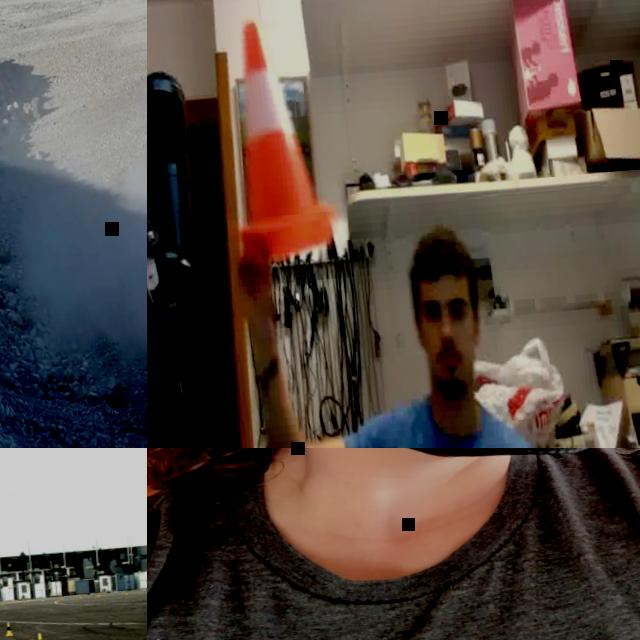NO-Hardhat: (403, 227, 476, 294)
NO-Mask: (424, 345, 472, 392)
NO-Safety Vest: (147, 448, 640, 640), (386, 399, 518, 448)
Person: (147, 448, 640, 640), (232, 216, 551, 448)
Safety Cone: (213, 11, 337, 265), (32, 631, 46, 640), (3, 622, 12, 636), (41, 596, 43, 602), (60, 594, 62, 600), (78, 594, 81, 598), (124, 590, 127, 594), (22, 598, 24, 603), (143, 587, 145, 592), (0, 600, 2, 604), (91, 592, 93, 596), (96, 592, 98, 596), (114, 590, 116, 594)
